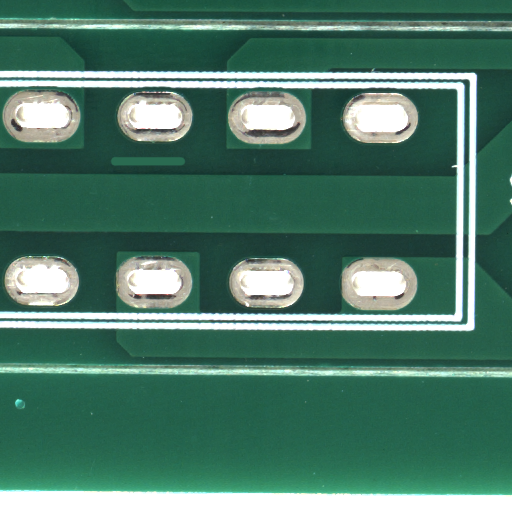Spurious_copper: (147, 160, 224, 174)
